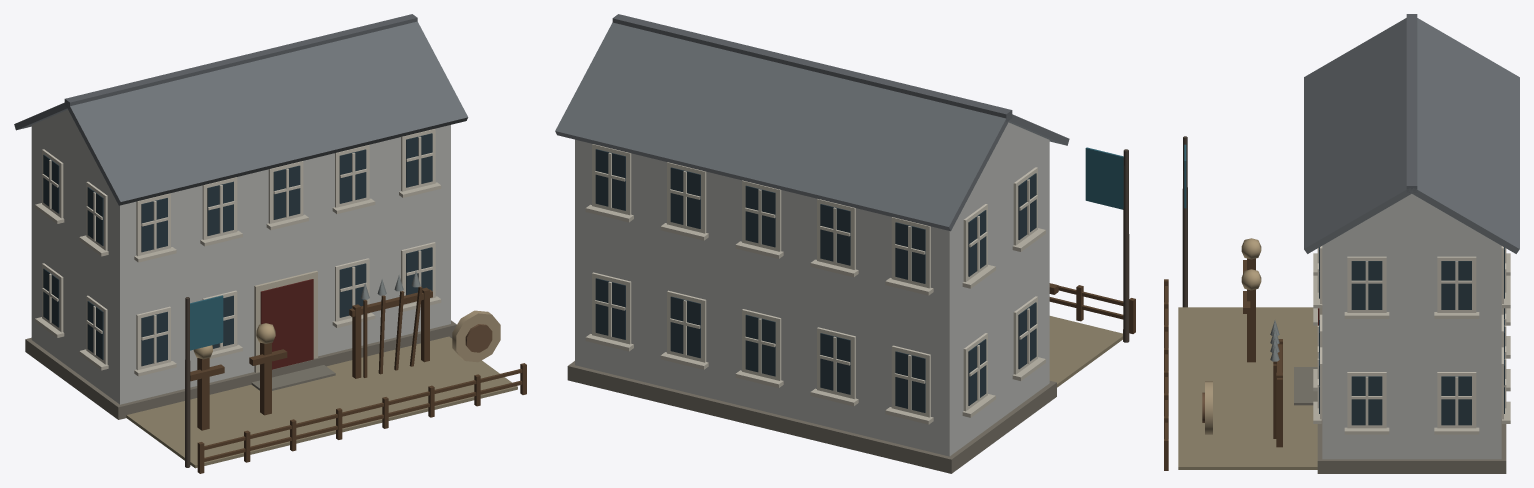
File: procedural_barracks@6.glb
3 renders of one model, left to right at view 1: azimuth 30°, elevation 25°; view 2: azimuth 150°, elevation 25°; view 3: azimuth 270°, elevation 25°, orthographic. The views are drawn at different scales.
Parts seen in each view (by area): view 1: part_0; view 2: part_0; view 3: part_0.
Boxes of the visible parts, <box> form: part_0: <box>14,14,526,473</box>; part_0: <box>555,14,1135,473</box>; part_0: <box>1164,14,1519,473</box>.
Bounding box in the file's own units: 8.62 × 6.79 × 7.54.
